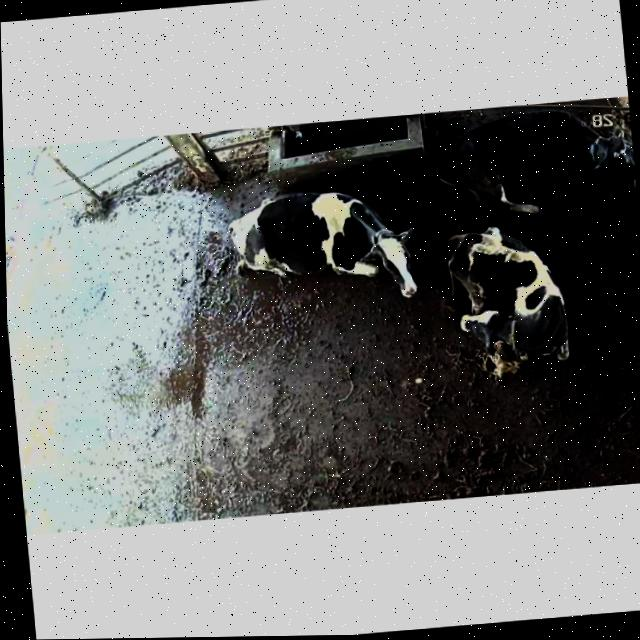lay: (212, 168, 425, 322), (417, 97, 639, 225), (428, 216, 584, 384)
